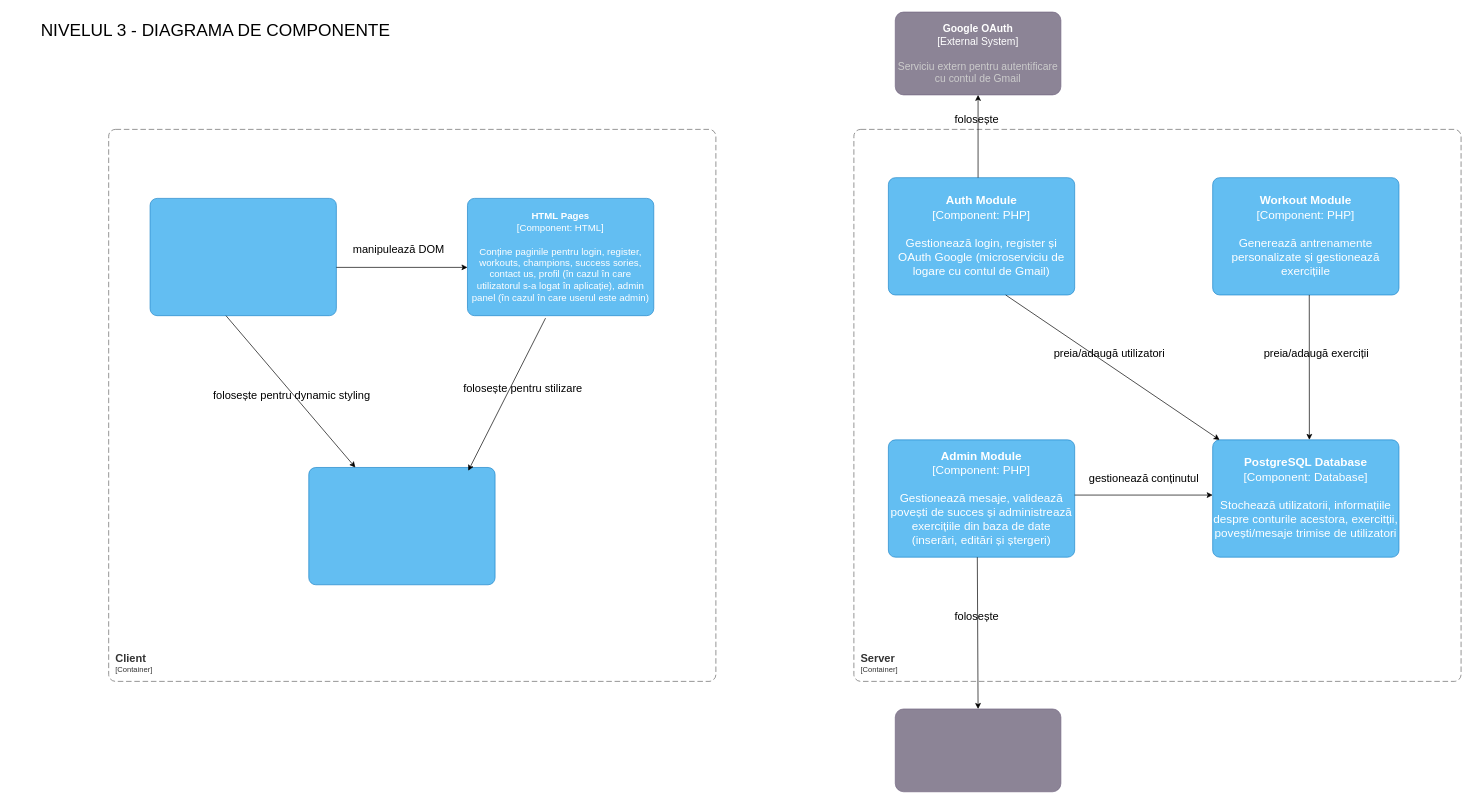
This 1473x804 diagram has some shape labels left out. Each missing label, with the centre of its shape:
CSS Styling [Component: CSS] Conține stilurile pentru toate paginile aplicației: point (401, 526)
Gmail SMTP [External System] Serviciu extern pentru trimiterea de mail-uri: point (978, 750)
JS [Component: JavaScript] Conține logica pentru autentificare, interacțiuni UI: point (242, 257)
